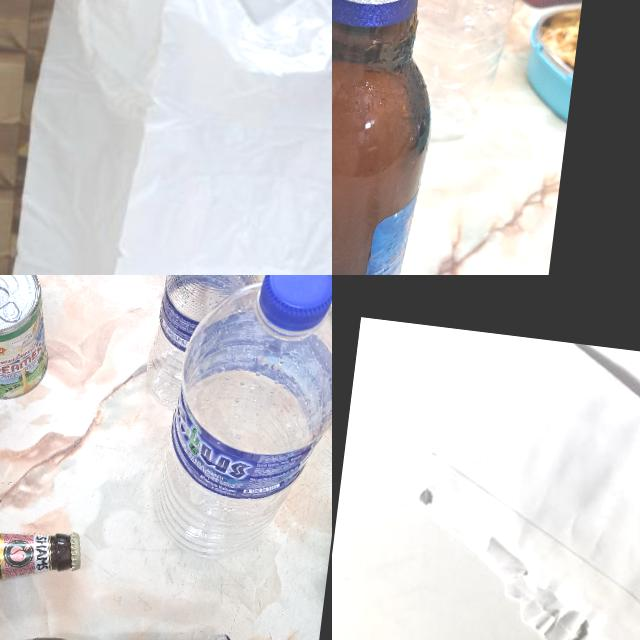aba de lata: (0, 279, 24, 328)
garrafa de vidro: (332, 0, 466, 275), (0, 502, 84, 635)
garrafa plástica: (147, 275, 332, 575), (380, 0, 566, 153), (149, 275, 266, 418)
lata: (0, 275, 62, 406)
papel: (351, 323, 640, 640)
sacola plástica: (0, 0, 332, 275)
tampa plástica: (255, 275, 332, 339)
